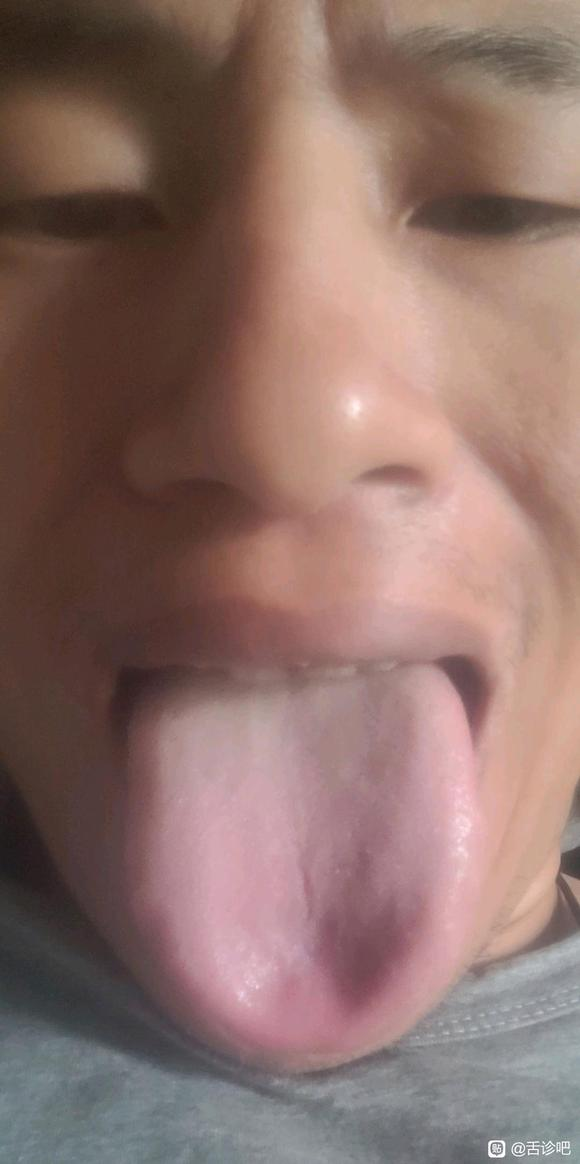baitaishe: (123, 662, 475, 1057)
liewenshe: (293, 853, 319, 930)
